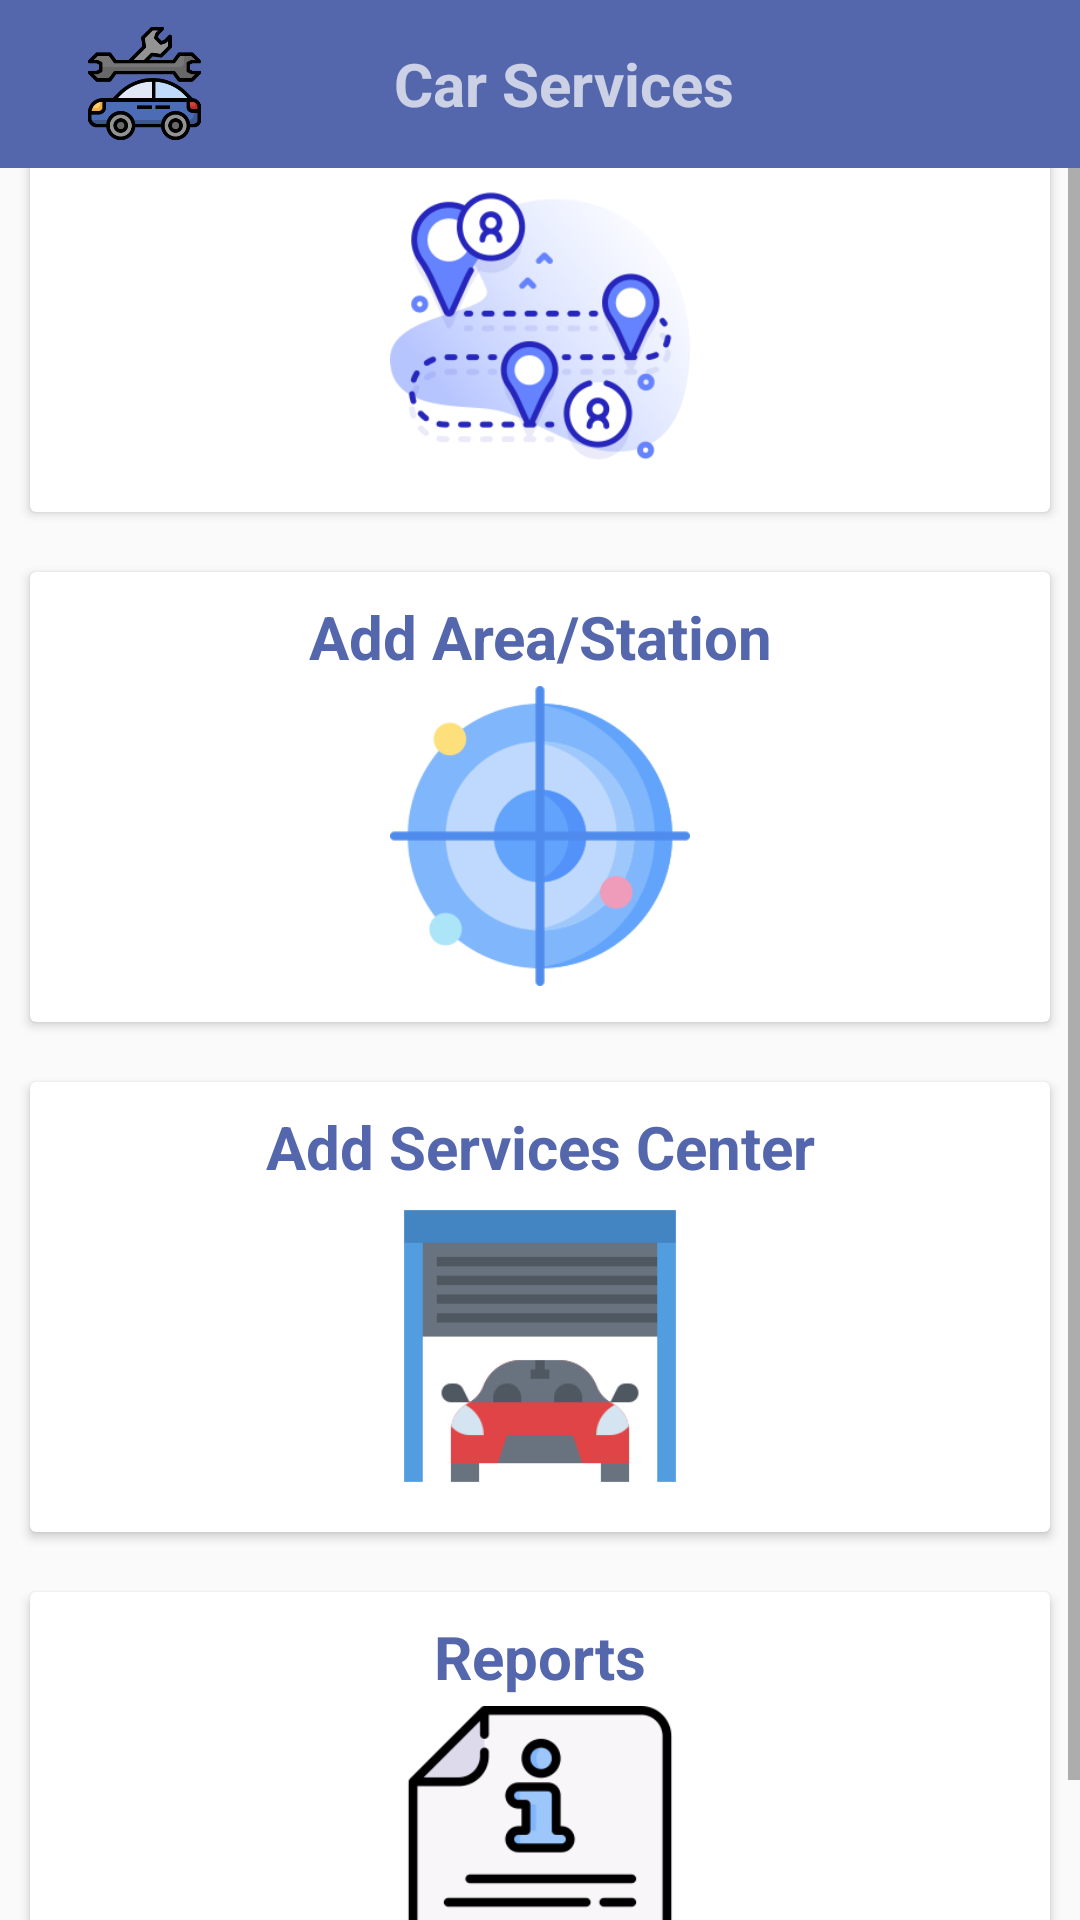

Where to tap for icons on this 1080 x 1920 app screen, as (x=x, y=y):
garage: (x=540, y=1346)
maintenance: (x=144, y=83)
radar: (x=540, y=836)
